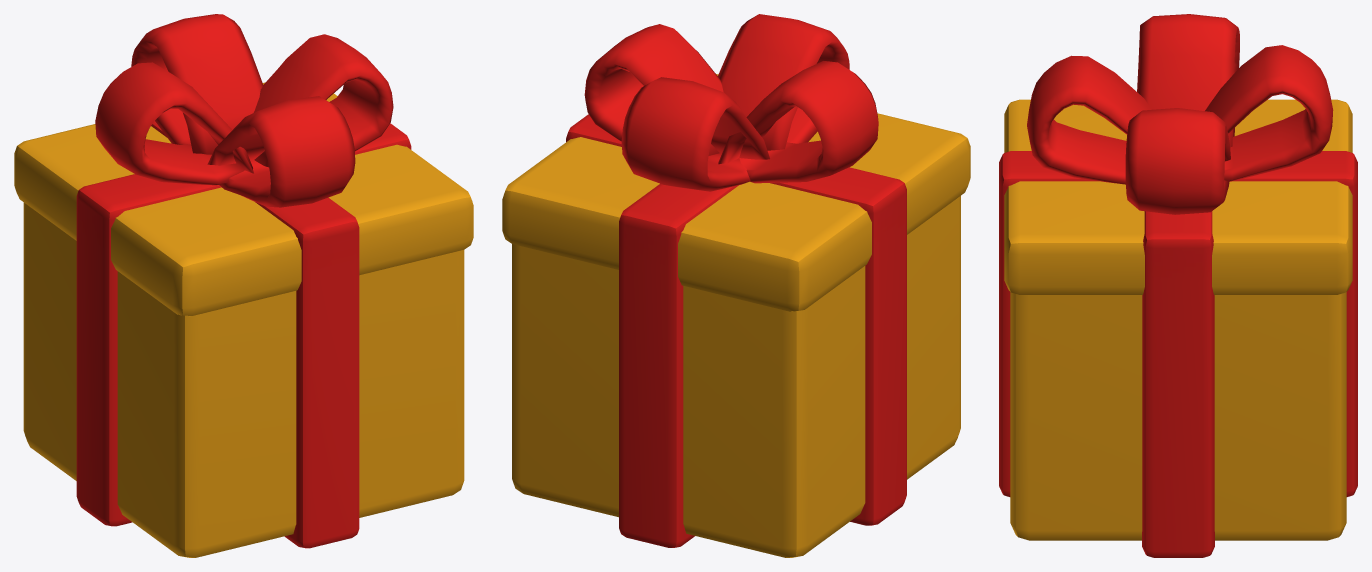
The model's file is Giftbox_yellow.fbx.
3 views of the same model, side by side, from view 1: azimuth 30°, elevation 25°; view 2: azimuth 150°, elevation 25°; view 3: azimuth 270°, elevation 25° (orthographic).
Parts seen in each view (by area): view 1: Giftbox_yellow; view 2: Giftbox_yellow; view 3: Giftbox_yellow.
Boxes of the visible parts, left/top/right/bottom form: Giftbox_yellow: left=14, top=14, right=473, bottom=557; Giftbox_yellow: left=502, top=14, right=970, bottom=557; Giftbox_yellow: left=999, top=14, right=1357, bottom=557.
Bounding box in the file's own units: 30.69 × 40.54 × 30.69.
